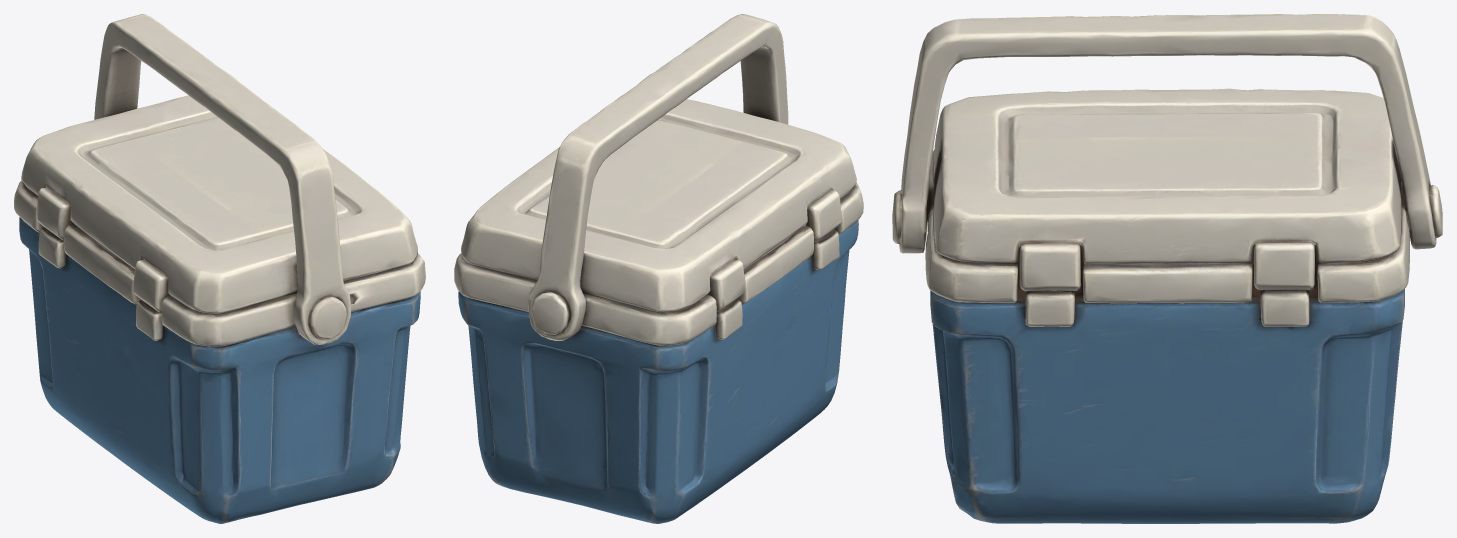
Rendered from conservadora.glb.
The picture shows the model from 3 angles, left to right: view 1: azimuth 30°, elevation 25°; view 2: azimuth 150°, elevation 25°; view 3: azimuth 270°, elevation 25°; orthographic projection. The views are drawn at different scales.
Visible parts, largest first — view 1: tripo_node_ff20ce17-0ab0-4c10-87ff-2c9affa7828e; view 2: tripo_node_ff20ce17-0ab0-4c10-87ff-2c9affa7828e; view 3: tripo_node_ff20ce17-0ab0-4c10-87ff-2c9affa7828e.
Boxes of the visible parts, box(x1,y1,x2,y2) form: tripo_node_ff20ce17-0ab0-4c10-87ff-2c9affa7828e: box(14, 14, 425, 523); tripo_node_ff20ce17-0ab0-4c10-87ff-2c9affa7828e: box(454, 14, 863, 523); tripo_node_ff20ce17-0ab0-4c10-87ff-2c9affa7828e: box(892, 14, 1442, 523).
Bounding box in the file's own units: 0.6316 × 0.9018 × 1.
1 material, 1 textured.
